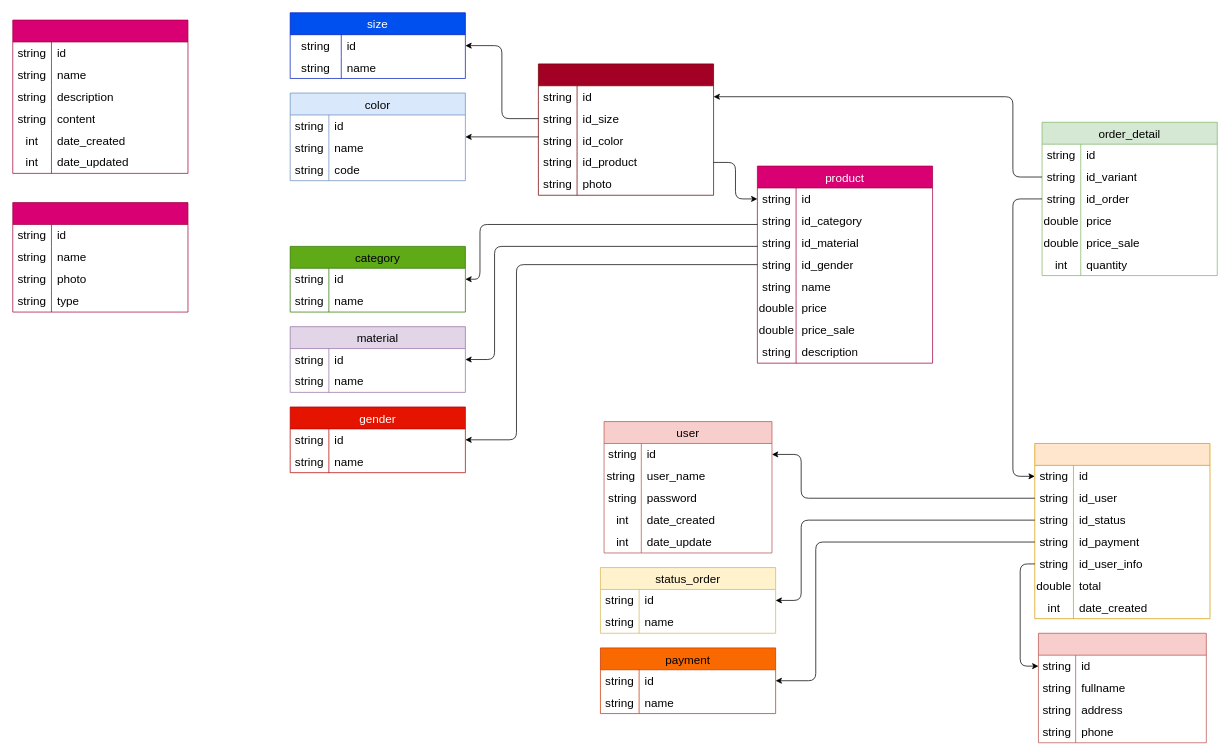
This 1230x756 diagram has some shape labels left out. The shapes that lost their labels are listed below. From the top down, each one's box as (x1, y1, x2, y2) in pixels, then its label:
(12, 19, 188, 173): news
(538, 63, 714, 195): variant
(12, 202, 188, 312): banner
(1034, 443, 1210, 619): order
(1038, 633, 1206, 743): user_info
